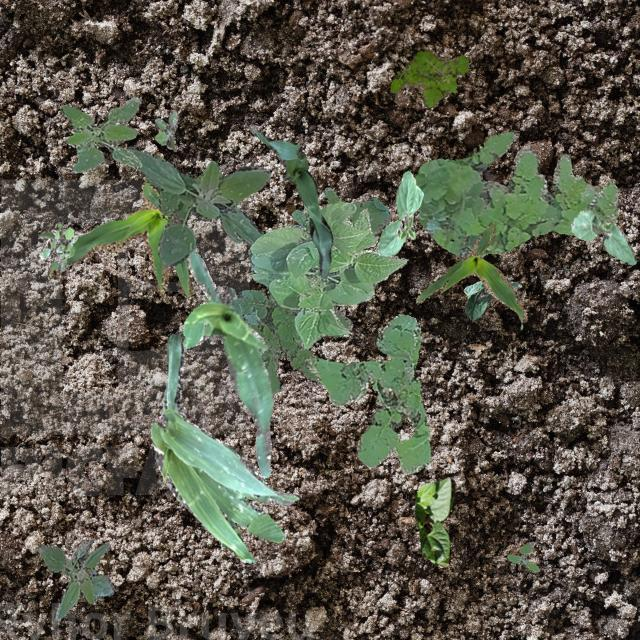crop: (148, 332, 298, 562), (248, 200, 407, 348), (182, 250, 272, 478), (46, 182, 192, 298), (250, 125, 332, 278), (414, 220, 526, 322), (376, 170, 422, 256), (570, 208, 636, 264), (414, 476, 454, 566), (462, 280, 520, 320)
weed: (236, 186, 390, 392), (414, 130, 618, 258), (302, 312, 430, 473), (126, 146, 270, 266), (36, 538, 114, 620), (60, 96, 140, 172), (389, 50, 468, 106), (38, 222, 76, 270), (506, 540, 538, 570), (154, 110, 178, 148)
